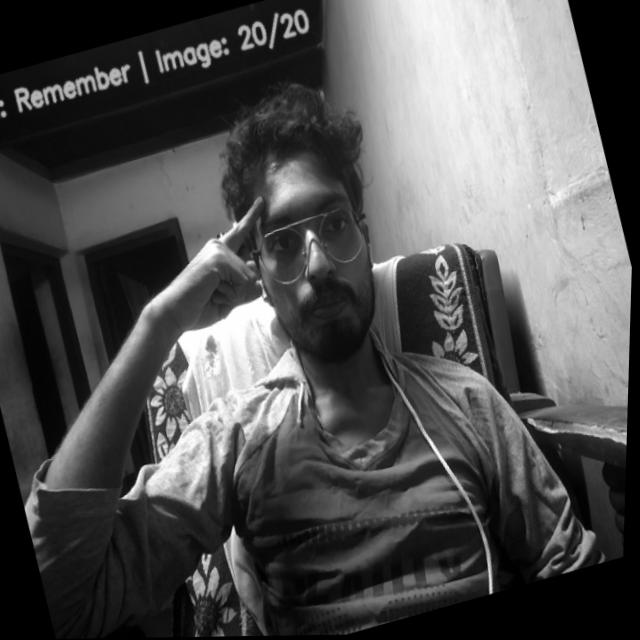Remember: (161, 190, 296, 331)
